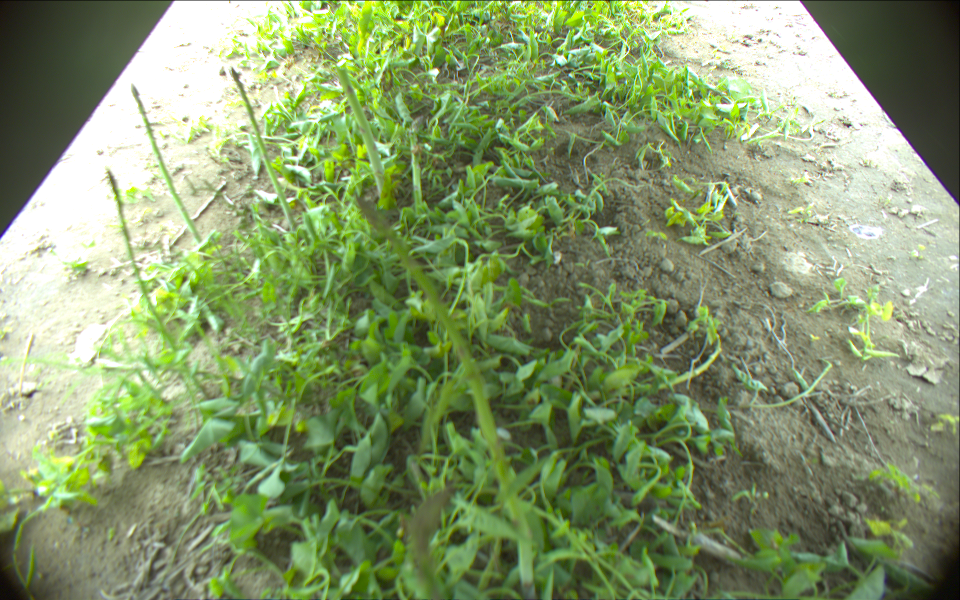aspa: (355, 198, 538, 600), (131, 87, 213, 259), (104, 169, 175, 343), (229, 69, 294, 230), (337, 66, 393, 214), (405, 489, 458, 600), (410, 119, 426, 213)
